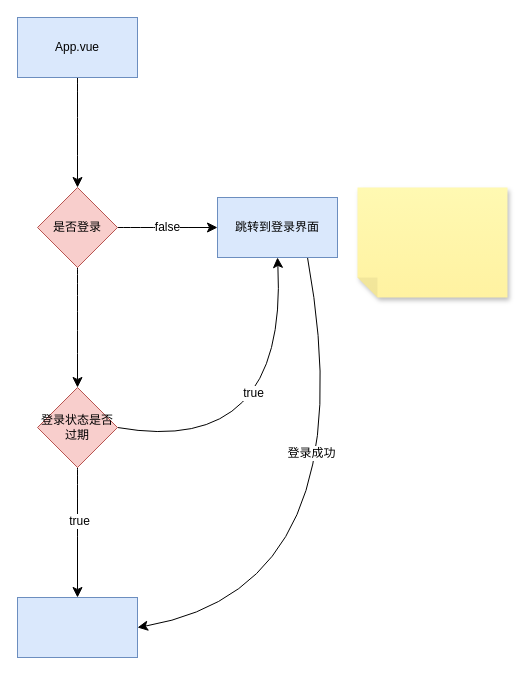
The diagram is 531 pixels wide and 675 high, and some of its shapes have lost their labels. Each missing label, with the centre of its shape:
wx.login换取微信登录凭证code,code作为请求参数发请求得到openID: the point at 433,243
进入首页: the point at 77,627
